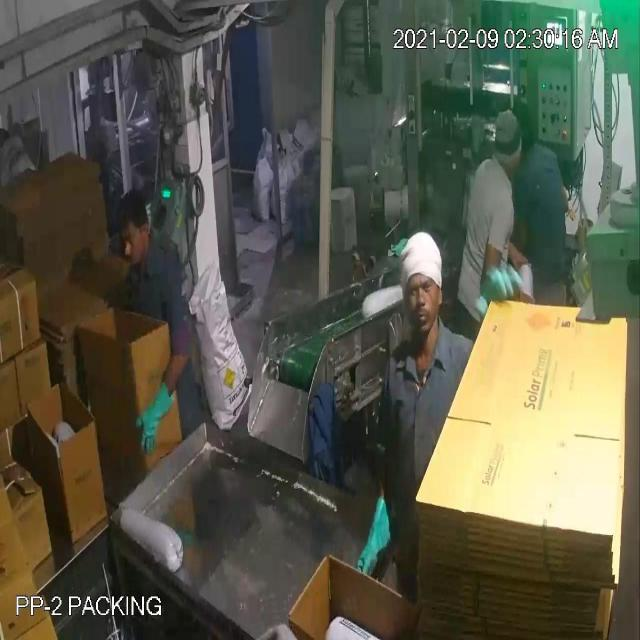Gloves: (60, 98, 374, 536)
